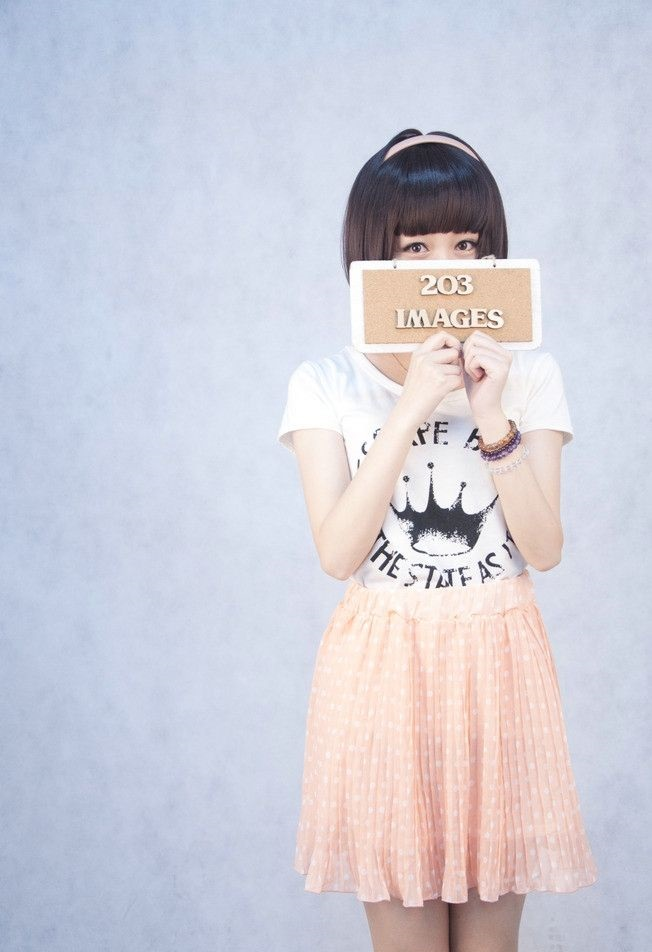face: (382, 189, 491, 358)
